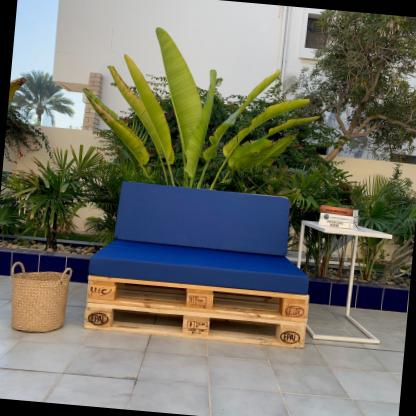BoxFace: (84, 274, 313, 320), (84, 307, 306, 353)
